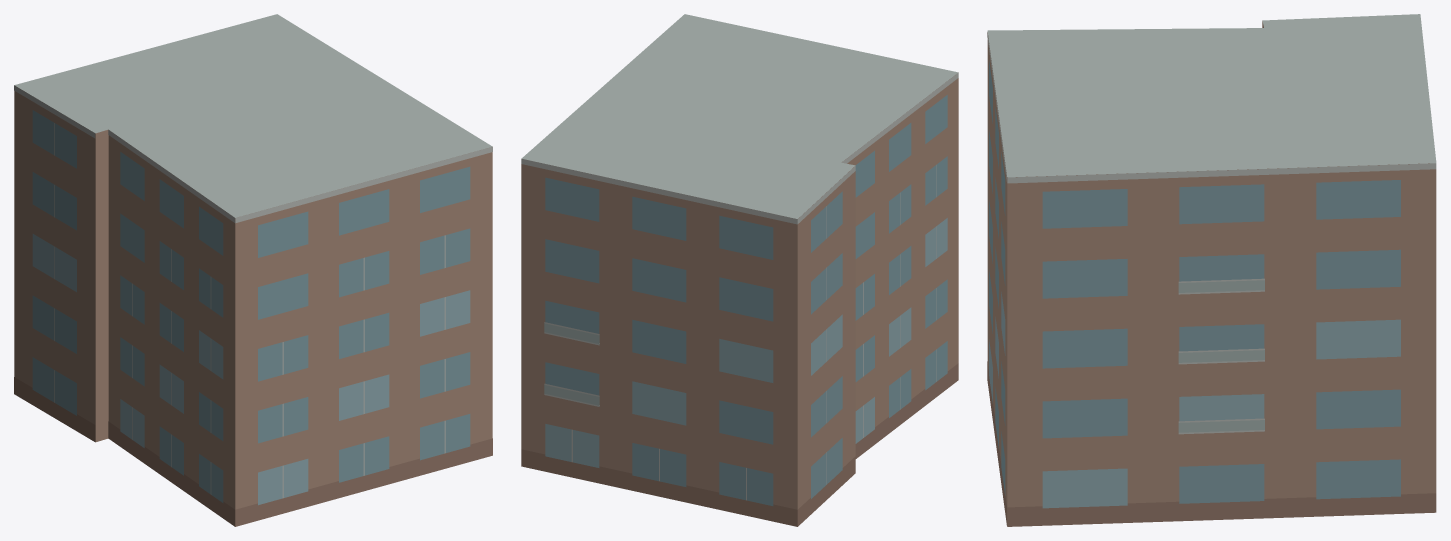
File: survey-upis-32742148.glb
The picture shows the model from 3 angles, left to right: view 1: azimuth 30°, elevation 25°; view 2: azimuth 150°, elevation 25°; view 3: azimuth 270°, elevation 25°; orthographic projection. The views are drawn at different scales.
Visible parts, largest first — view 1: survey-upis-32742148.tmp; view 2: survey-upis-32742148.tmp; view 3: survey-upis-32742148.tmp.
Boxes of the visible parts, x1,y1,x2,y2 form: survey-upis-32742148.tmp: (14,14,492,526); survey-upis-32742148.tmp: (521,14,958,526); survey-upis-32742148.tmp: (987,14,1436,526).
Size of the model in its own units: 14.05 by 14 by 16.31.
